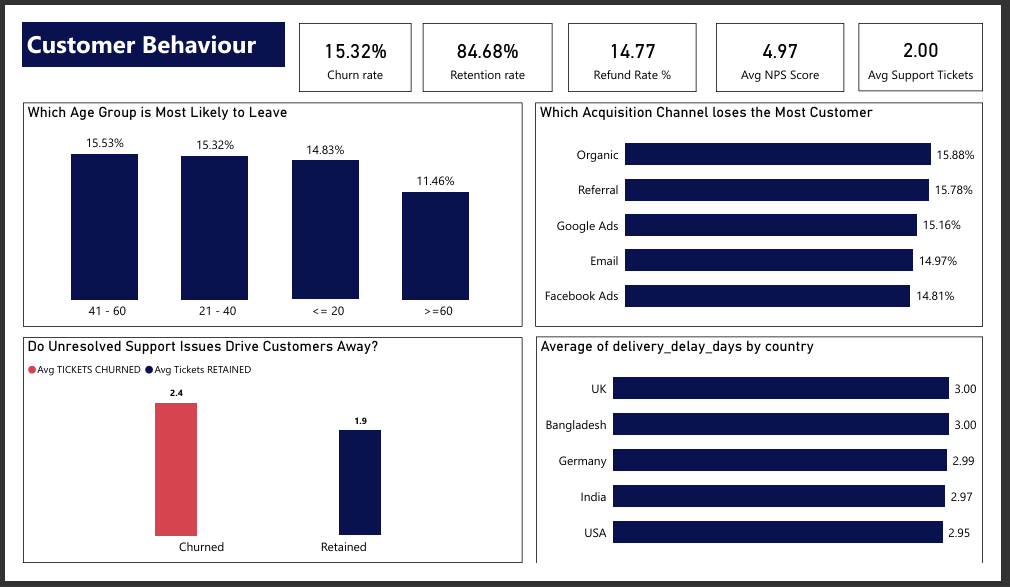

What the dashboard file says about the page in this screenshot:
{"tool":"powerbi","page":{"name":"Customer Behaviour","canvas":[1280,720],"ordinal":3},"visuals":[{"type":"card","fields":{"Values":["Table.Churn rate"]},"box":[533.5,0,172.5,91.6],"z":0},{"type":"card","fields":{"Values":["Table.Churn rate"]},"box":[368,0,149.7,91.6],"z":1000},{"type":"card","fields":{"Values":["Table.Avg NPS Score"]},"box":[924.3,0,170.8,91.6],"z":2000},{"type":"card","fields":{"Values":["Table.Refund Rate %"]},"box":[727.2,0,170.8,91.6],"z":3000},{"type":"card","fields":{"Values":["Table.Avg Support Tickets"]},"box":[1113.7,0,166.3,90.7],"z":4000},{"type":"clusteredBarChart","title":"Which Acquisition Channel loses the Most Customer","fields":{"Category":["Sales - Marketing customer data.acquisition_channel"],"Y":["Table.Churn rate"]},"box":[683.1,105.6,596.9,299.3],"z":5000},{"type":"clusteredColumnChart","title":"Which Age Group is Most Likely to Leave","fields":{"Category":["Sales - Marketing customer data.Age Category"],"Y":["Table.Churn rate"]},"box":[0,105.6,665.5,299.3],"z":6000},{"type":"clusteredColumnChart","title":"Do Unresolved Support Issues Drive Customers Away?","fields":{"Category":["Sales - Marketing customer data.Churn Label"],"Y":["Table.Avg TICKETS CHURNED","Table.Avg Tickets RETAINED"]},"box":[0,419,665.5,301.1],"z":7000},{"type":"textbox","box":[0,0,350.4,59.9],"z":8000},{"type":"clusteredBarChart","fields":{"Category":["Sales - Marketing customer data.country"],"Y":["Avg(Sales - Marketing customer data.delivery_delay_days)"]},"box":[683.7,418.3,596.3,302.4],"z":9000}]}

Visuals, with their boxes on the page's 1280x720 design canvas (x1, y1, x2, y2). These are canvas units, not pixel positions in the 1010x587 screenshot, which may show the page scaled, cropped or inside an application window:
card - Table.Churn rate: {"left": 534, "top": 0, "right": 706, "bottom": 92}
card - Table.Churn rate: {"left": 368, "top": 0, "right": 518, "bottom": 92}
card - Table.Avg NPS Score: {"left": 924, "top": 0, "right": 1095, "bottom": 92}
card - Table.Refund Rate %: {"left": 727, "top": 0, "right": 898, "bottom": 92}
card - Table.Avg Support Tickets: {"left": 1114, "top": 0, "right": 1280, "bottom": 91}
"Which Acquisition Channel loses the Most Customer" clusteredBarChart: {"left": 683, "top": 106, "right": 1280, "bottom": 405}
"Which Age Group is Most Likely to Leave" clusteredColumnChart: {"left": 0, "top": 106, "right": 666, "bottom": 405}
"Do Unresolved Support Issues Drive Customers Away?" clusteredColumnChart: {"left": 0, "top": 419, "right": 666, "bottom": 720}
textbox: {"left": 0, "top": 0, "right": 350, "bottom": 60}
clusteredBarChart - Sales - Marketing customer data.country x Avg(Sales - Marketing customer data.delivery_delay_days): {"left": 684, "top": 418, "right": 1280, "bottom": 721}
